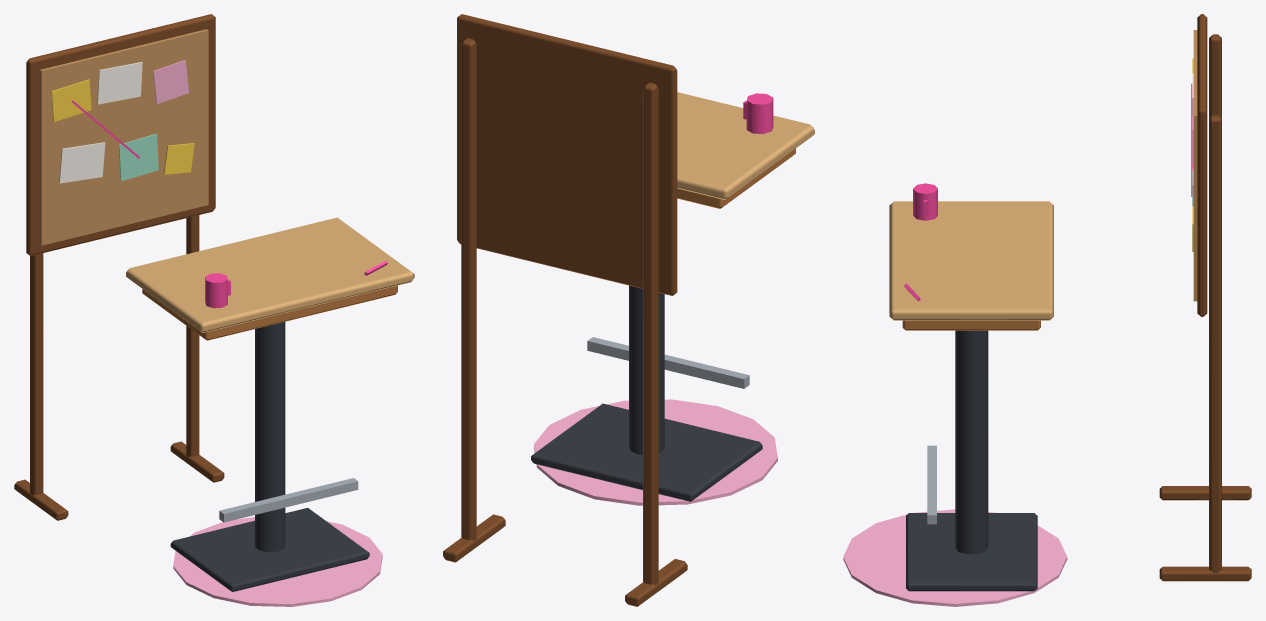
The model's file is station_intake_basis.glb.
The picture shows the model from 3 angles, left to right: view 1: azimuth 30°, elevation 25°; view 2: azimuth 150°, elevation 25°; view 3: azimuth 270°, elevation 25°; orthographic projection. The views are drawn at different scales.
Parts seen in each view (by area): view 1: station_intake_basis; view 2: station_intake_basis; view 3: station_intake_basis.
Boxes of the visible parts, <box> form: station_intake_basis: <box>14,14,414,606</box>; station_intake_basis: <box>443,14,814,606</box>; station_intake_basis: <box>843,14,1251,606</box>.
Size of the model in its own units: 0.9 by 1.6 by 1.24.
